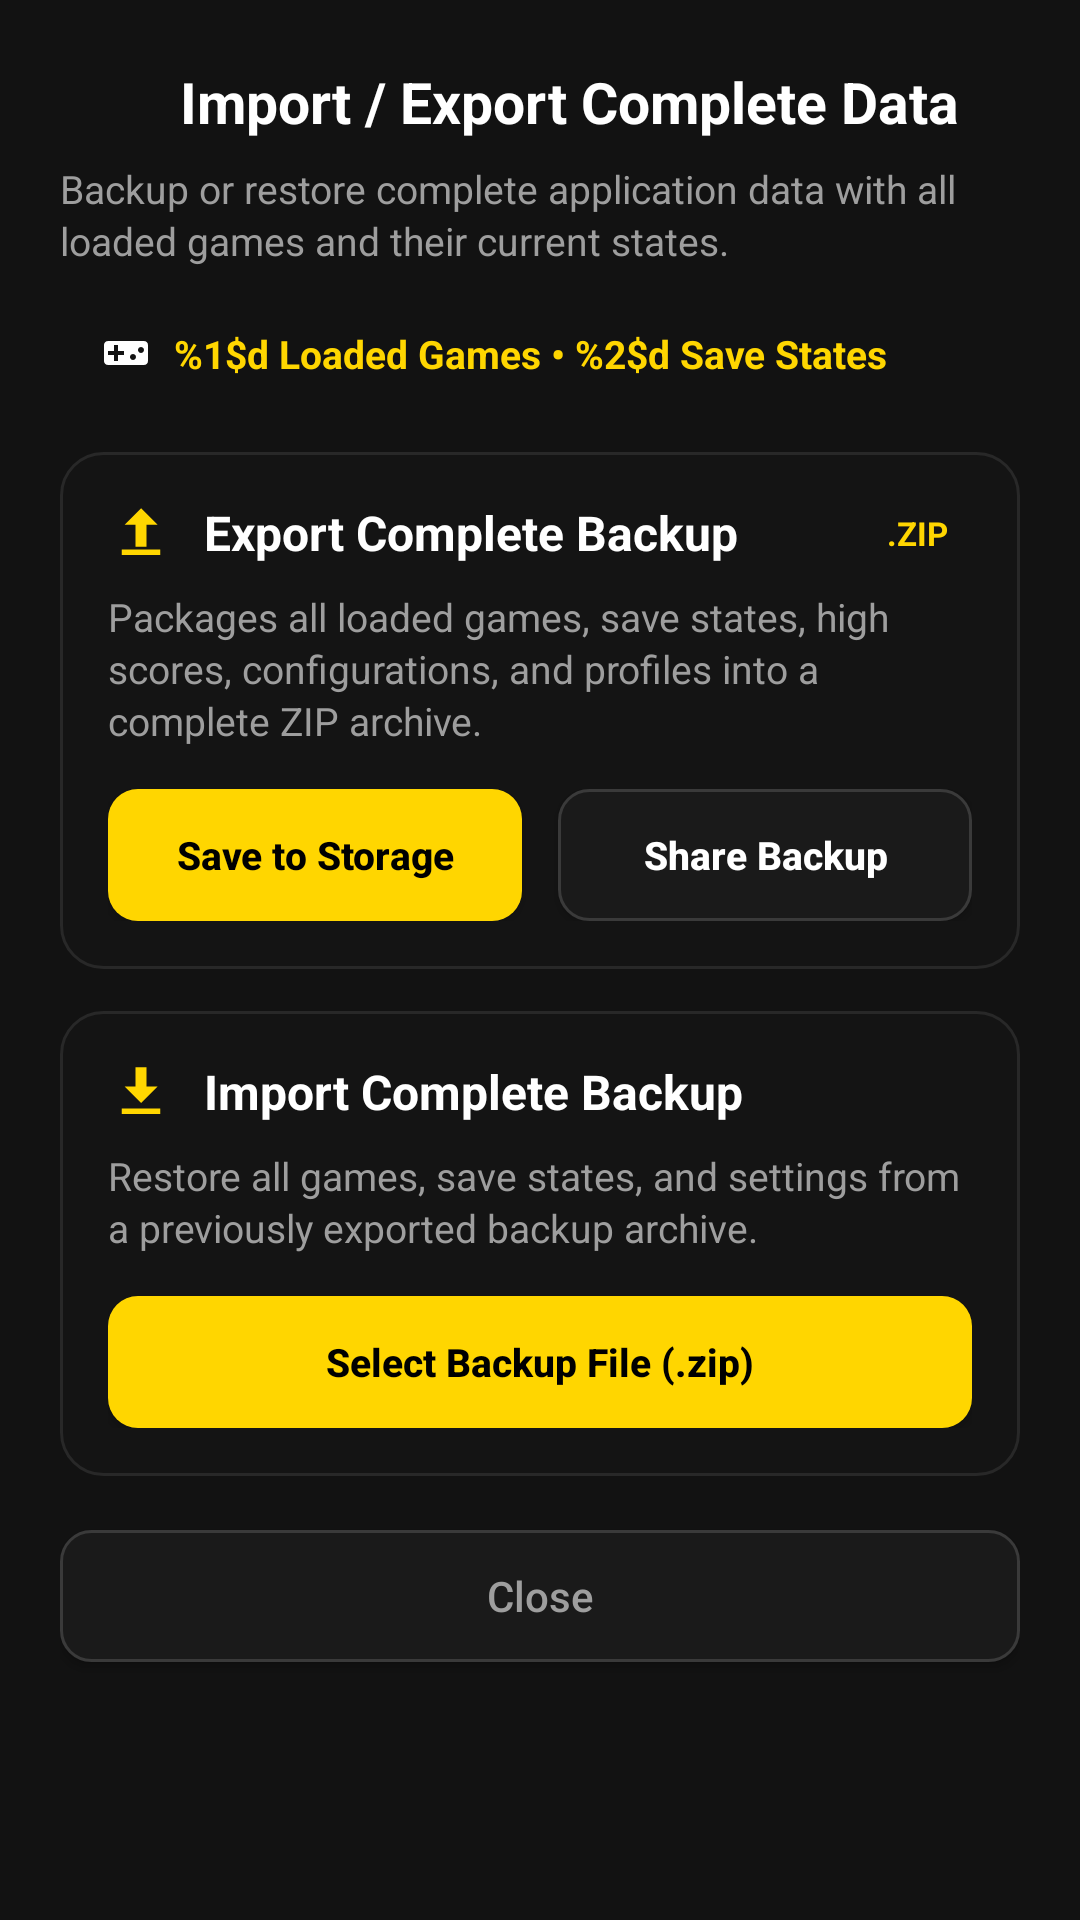

Screen size 1080x1920. Icon name, then its center in pixels as (x=x, y=y):
gamepad: (x=126, y=353)
